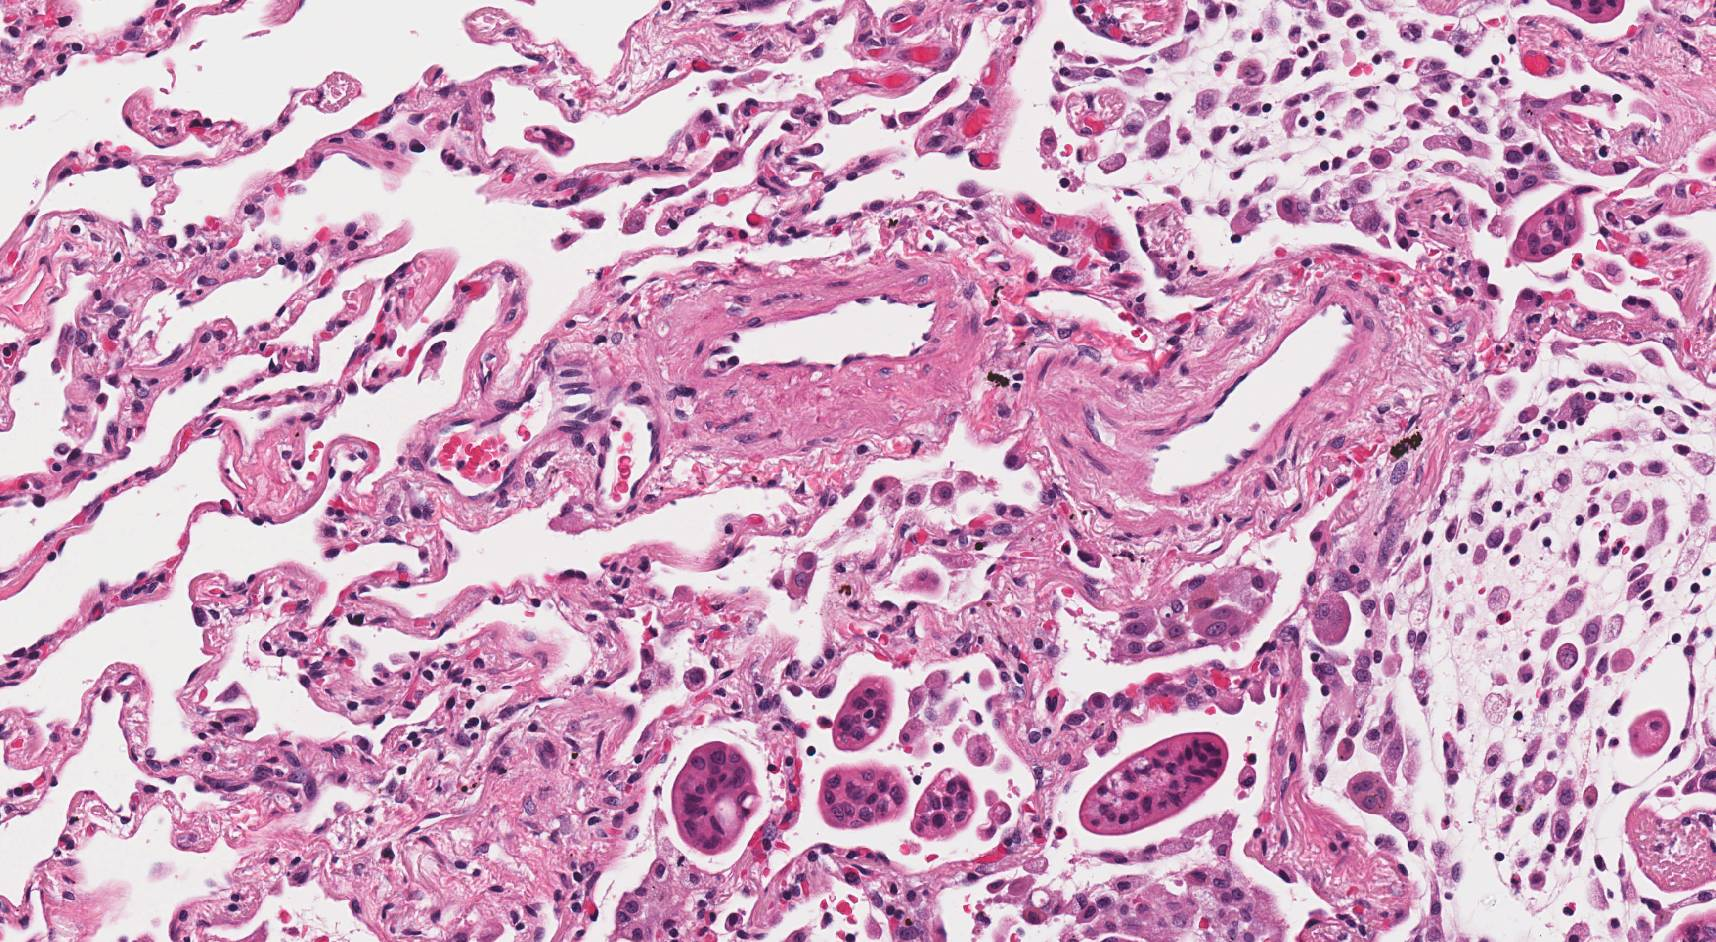stas: (1079, 732, 1230, 838), (672, 739, 761, 857), (1508, 183, 1599, 265), (818, 767, 911, 827), (911, 769, 978, 841), (833, 676, 895, 749)
